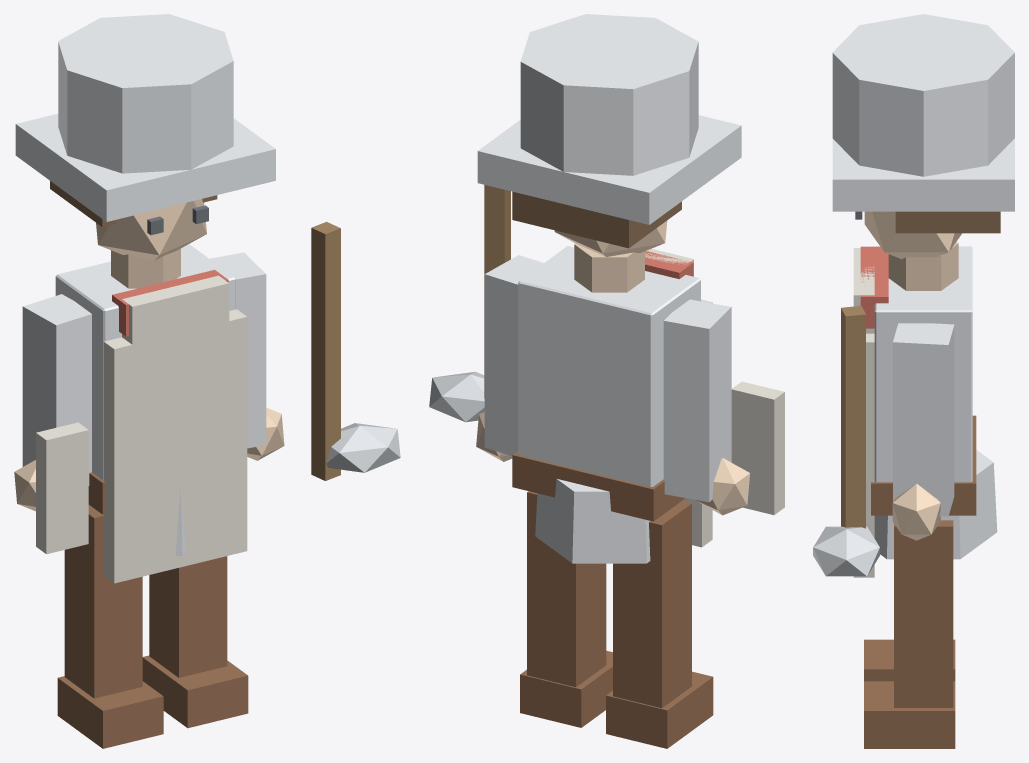
The model's file is npc_chef.glb.
The picture shows the model from 3 angles, left to right: view 1: azimuth 30°, elevation 25°; view 2: azimuth 150°, elevation 25°; view 3: azimuth 270°, elevation 25°; orthographic projection.
Parts seen in each view (by area): view 1: torso.002; view 2: torso.002; view 3: torso.002.
Part boxes in pixels (x1=…): torso.002: x1=14, y1=14, x2=400, y2=748; torso.002: x1=429, y1=14, x2=784, y2=748; torso.002: x1=813, y1=14, x2=1014, y2=748.
Bounding box in the file's own units: 1.16 × 2.08 × 0.5753.
